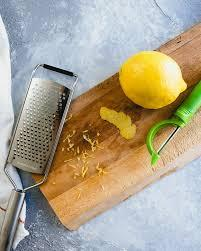lemon: (119, 51, 187, 109)
